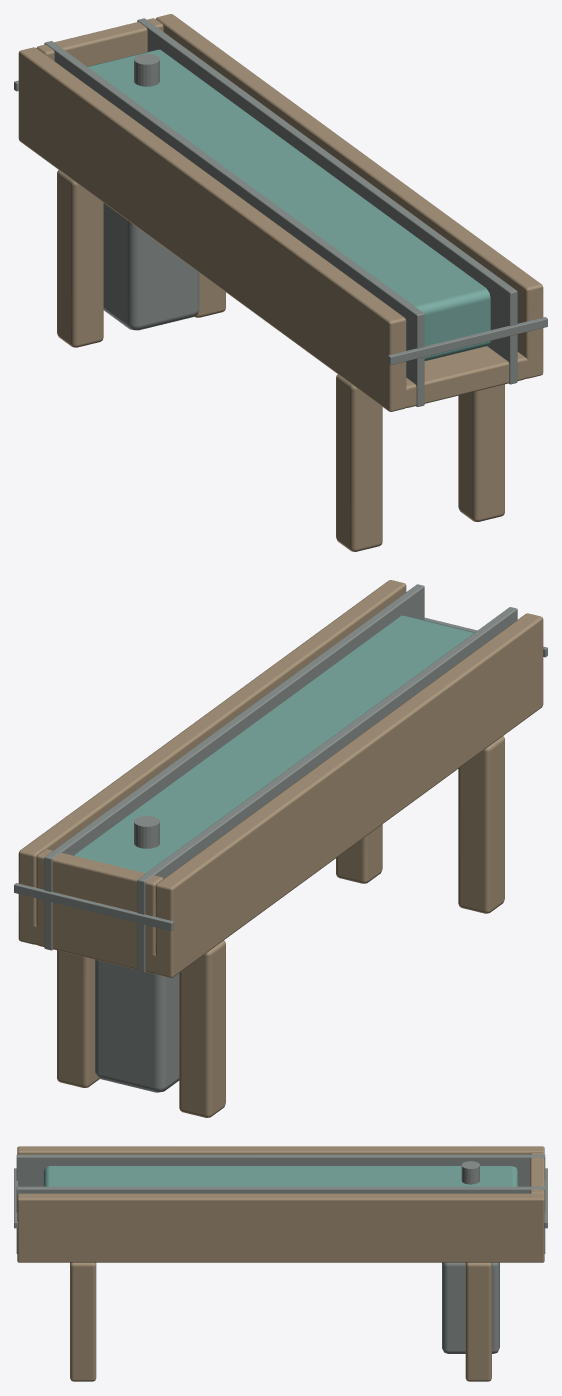
Rendered from coastal-saltworks-and-trade-port-coastal-saltworks-and-0bf367c6__31377.glb.
The picture shows the model from 3 angles, top to bottom: view 1: azimuth 30°, elevation 25°; view 2: azimuth 150°, elevation 25°; view 3: azimuth 270°, elevation 25°; orthographic projection. The views are drawn at different scales.
Parts seen in each view (by area): view 1: coastal-saltworks-and-trade-port-brine-lifting-trough; view 2: coastal-saltworks-and-trade-port-brine-lifting-trough; view 3: coastal-saltworks-and-trade-port-brine-lifting-trough.
Part boxes in pixels (x1,y1,x2,y2): coastal-saltworks-and-trade-port-brine-lifting-trough: (14, 14, 547, 551); coastal-saltworks-and-trade-port-brine-lifting-trough: (14, 580, 547, 1117); coastal-saltworks-and-trade-port-brine-lifting-trough: (14, 1146, 547, 1381).
Size of the model in its own units: 0.49 by 0.8001 by 2.03.
